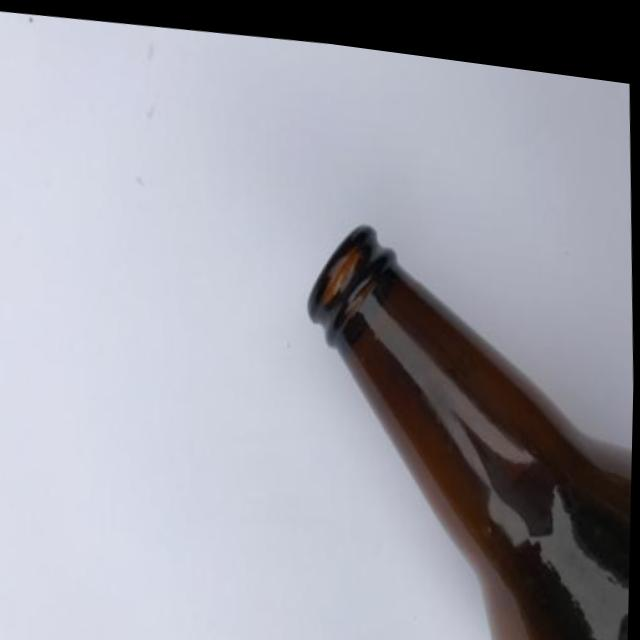glass: (228, 129, 638, 640)
